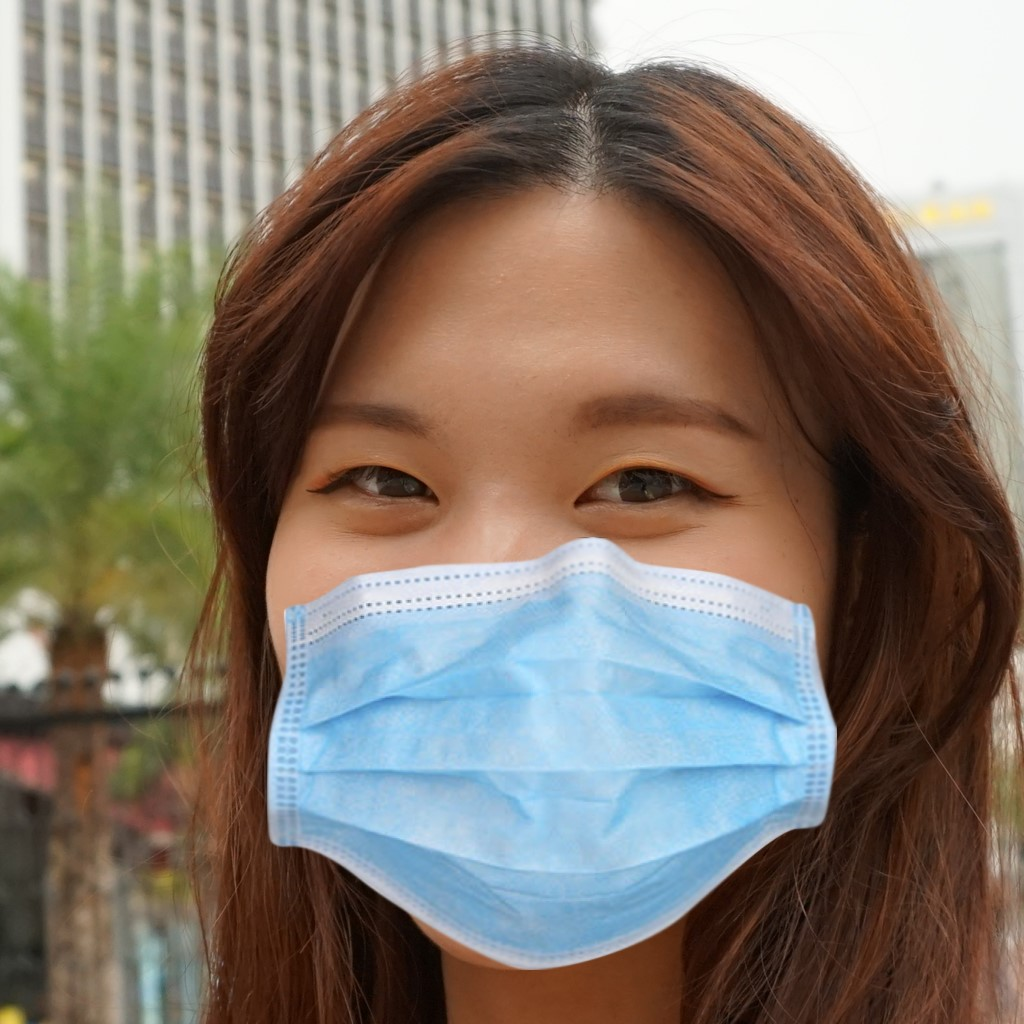con_mascara: (254, 172, 849, 931)
